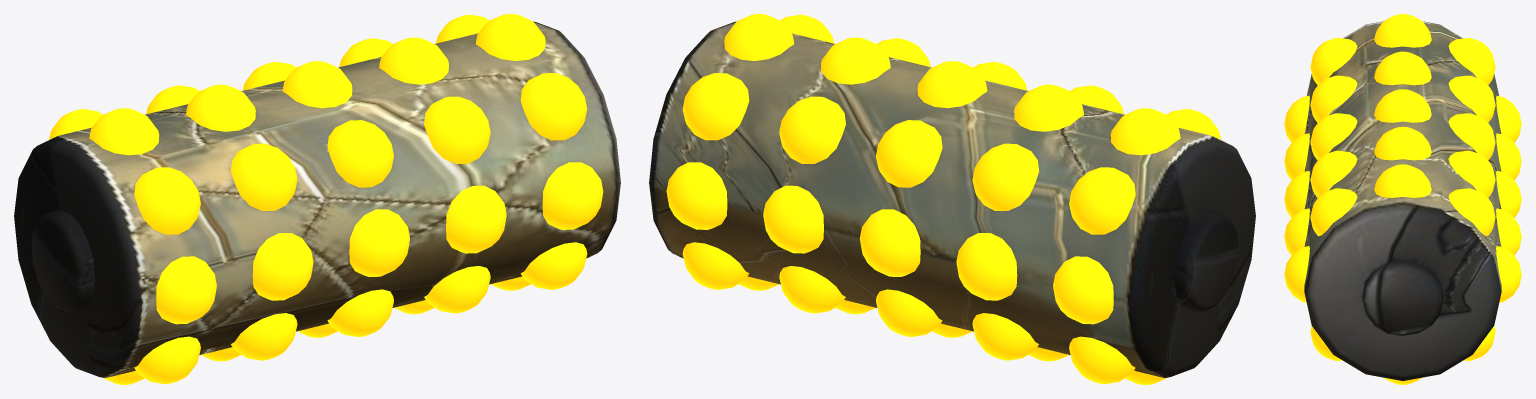
File: floor.02.machine3.gltf
The picture shows the model from 3 angles, left to right: view 1: azimuth 30°, elevation 25°; view 2: azimuth 150°, elevation 25°; view 3: azimuth 270°, elevation 25°; orthographic projection. The views are drawn at different scales.
Visible parts, largest first — view 1: floor.02.machine.04; view 2: floor.02.machine.04; view 3: floor.02.machine.04.
Part boxes in pixels (x1,y1,x2,y2): floor.02.machine.04: (14, 14, 620, 384); floor.02.machine.04: (649, 14, 1255, 384); floor.02.machine.04: (1284, 14, 1521, 384).
Size of what is drawn, in the model's own units: 8.15 by 3.98 by 3.98.
Materials: 2 (1 with a texture image).
